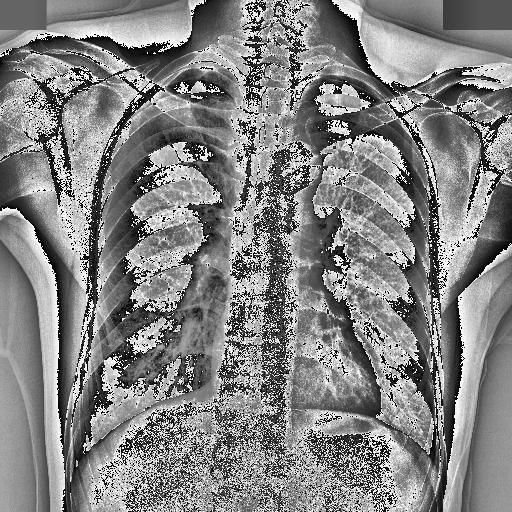0- Aortic enlargement: (274, 137, 322, 193), (271, 141, 320, 190)
11- Pleural thickening: (186, 60, 226, 84), (181, 63, 235, 76), (196, 64, 220, 74)
